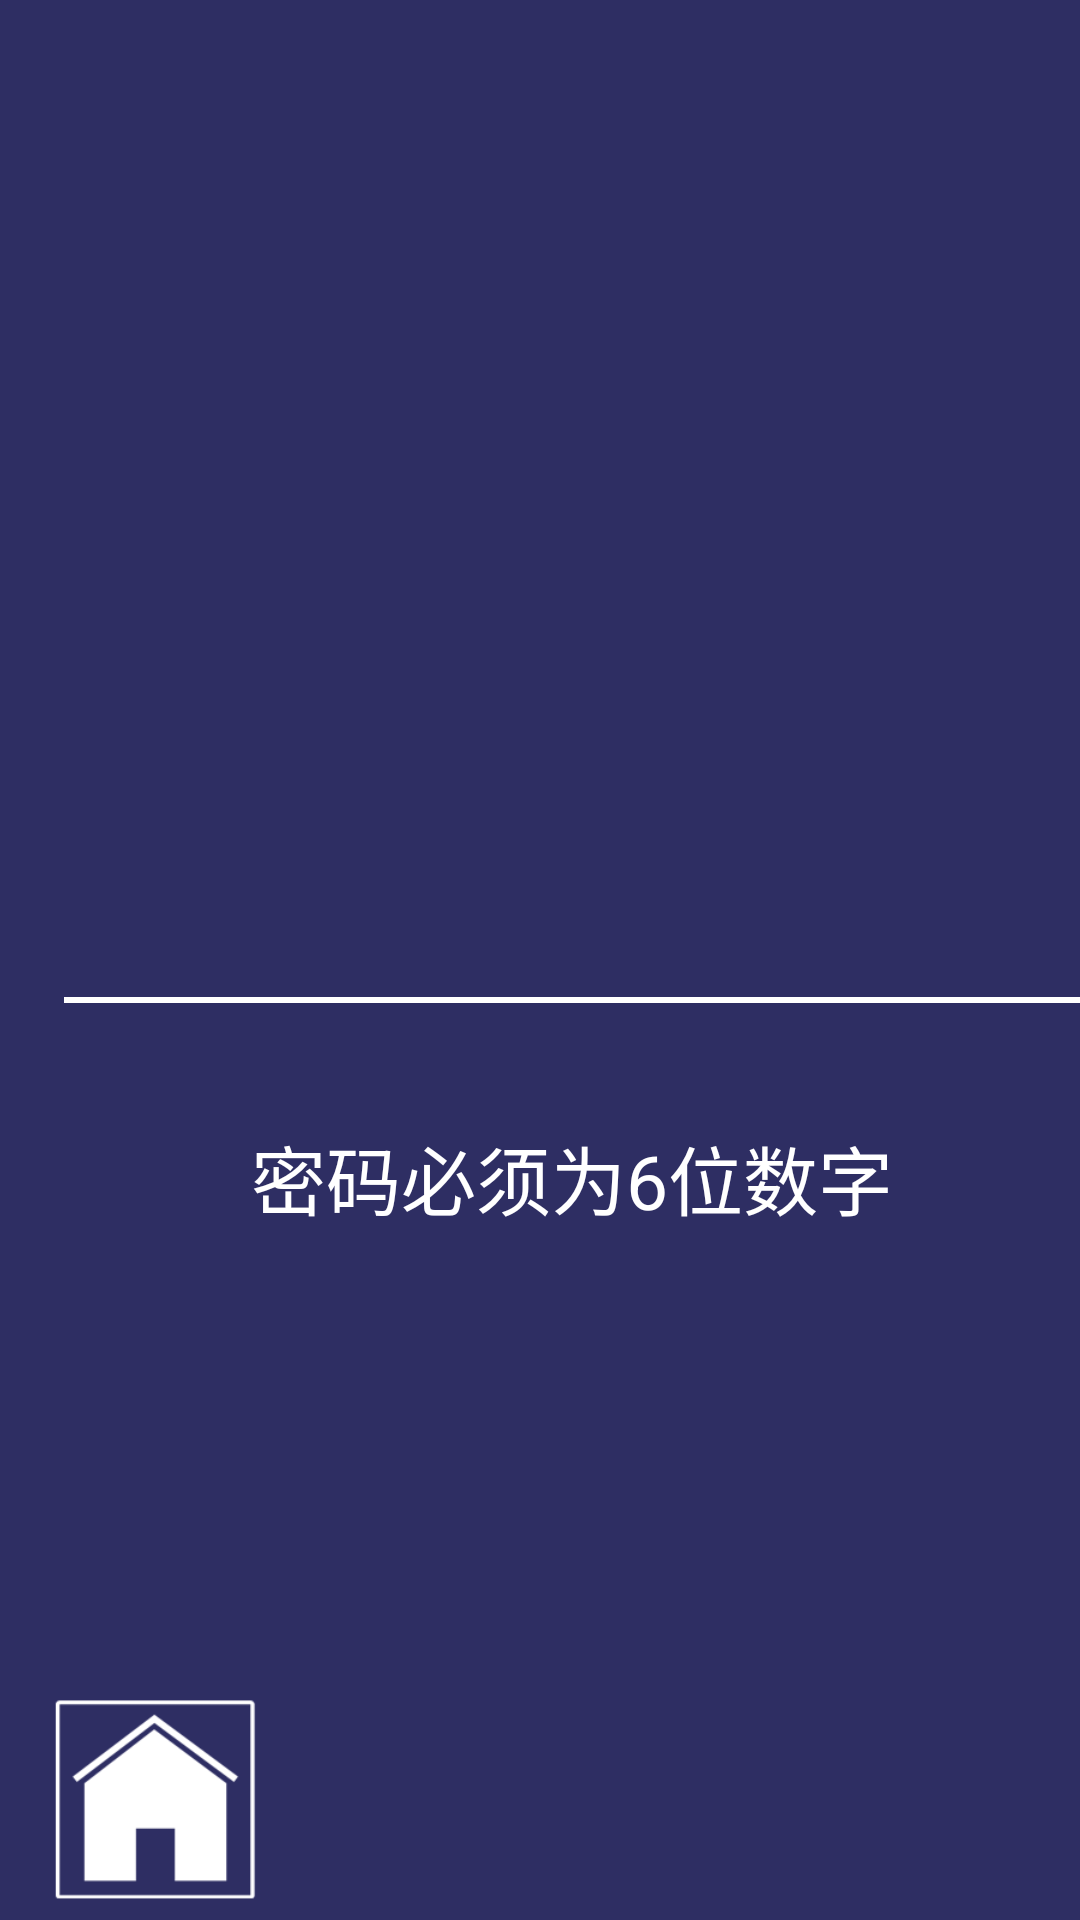

Named icons in this screenshot (1080 × 1920) and their centers, (x,y):
home: (155,1799)
